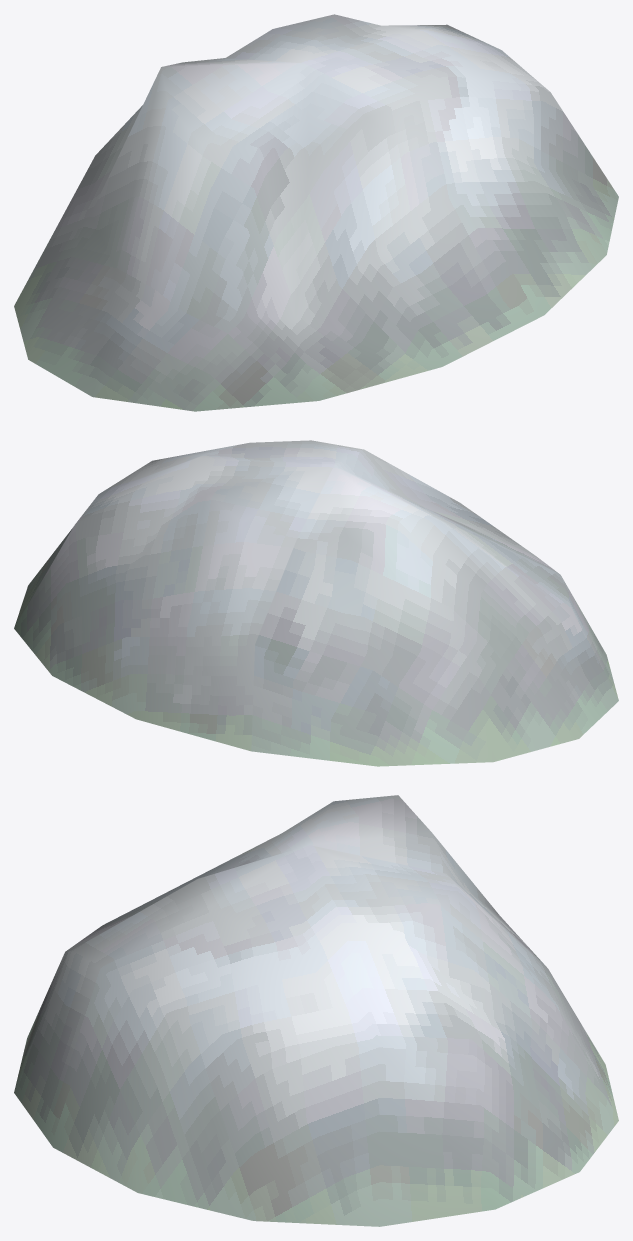
File: TROLLHOLE02_STONEA15.fbx
3 renders of one model, top to bottom at view 1: azimuth 30°, elevation 25°; view 2: azimuth 150°, elevation 25°; view 3: azimuth 270°, elevation 25°, orthographic. The views are drawn at different scales.
Parts seen in each view (by area): view 1: TROLLHOLE02_STONEA15; view 2: TROLLHOLE02_STONEA15; view 3: TROLLHOLE02_STONEA15.
Part boxes in pixels (x1,y1,x2,y2): TROLLHOLE02_STONEA15: [14, 14, 618, 411]; TROLLHOLE02_STONEA15: [14, 440, 618, 766]; TROLLHOLE02_STONEA15: [14, 795, 618, 1226].
Size of the model in its own units: 17353 by 6661 by 13732.
Materials: 1 (1 with a texture image).
